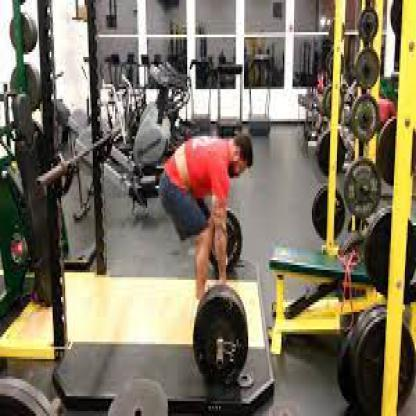barbell: (193, 285, 250, 386)
